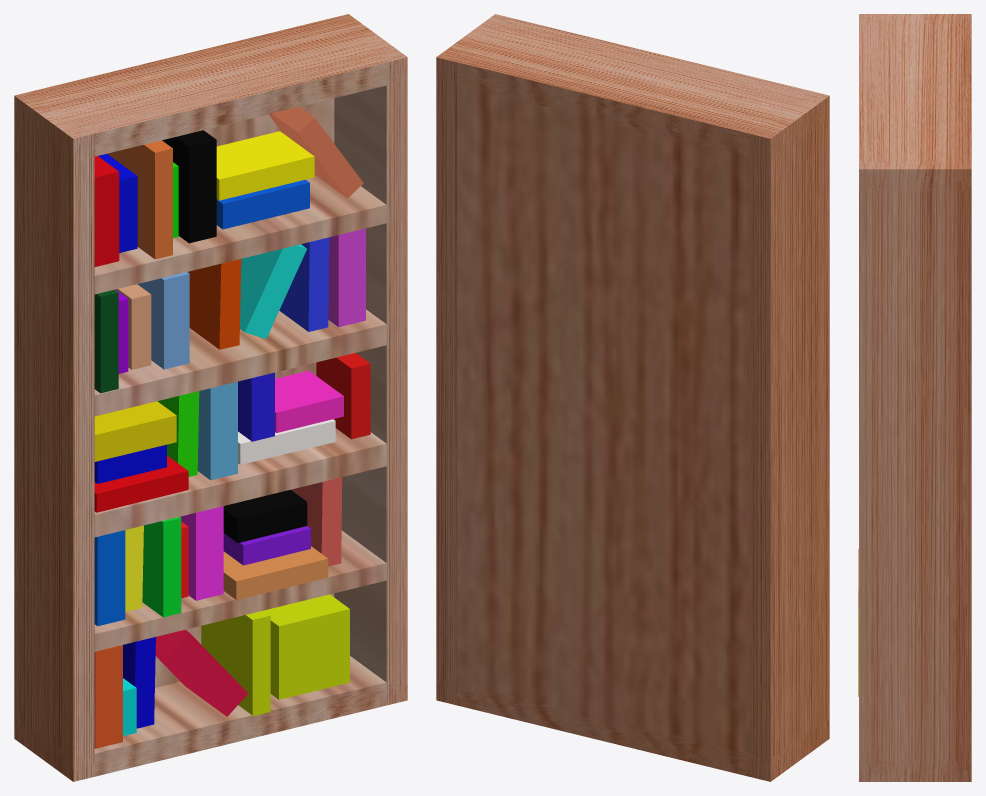
File: estantedelivros.dae
3 views of the same model, side by side, from view 1: azimuth 30°, elevation 25°; view 2: azimuth 150°, elevation 25°; view 3: azimuth 270°, elevation 25° (orthographic). The views are drawn at different scales.
Parts seen in each view (by area): view 1: Estante, Livros; view 2: Estante; view 3: Estante.
Boxes of the visible parts, x1=… form: Estante: x1=14, y1=14, x2=407, y2=781; Livros: x1=94, y1=106, x2=370, y2=748; Estante: x1=436, y1=14, x2=829, y2=781; Estante: x1=859, y1=14, x2=971, y2=781.
Bounding box in the file's own units: 6.53 × 2.02 × 12.
41 materials, 2 textured.
